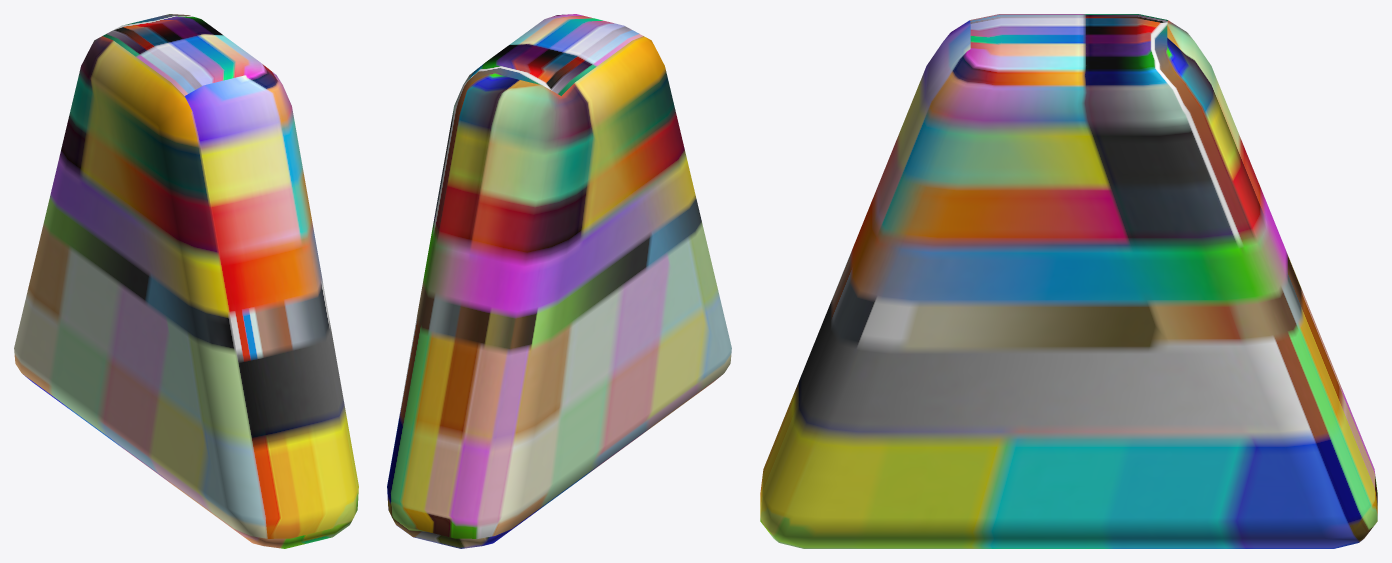
File: TringleTight.fbx
3 views of the same model, side by side, from view 1: azimuth 30°, elevation 25°; view 2: azimuth 150°, elevation 25°; view 3: azimuth 270°, elevation 25° (orthographic). The views are drawn at different scales.
Visible parts, largest first — view 1: Cube.005; view 2: Cube.005; view 3: Cube.005.
Boxes of the visible parts, x1,y1,x2,y2 form: Cube.005: (14, 14, 358, 548); Cube.005: (387, 14, 731, 548); Cube.005: (760, 14, 1377, 548).
Bounding box in the file's own units: 0.7036 × 2.17 × 2.44.
